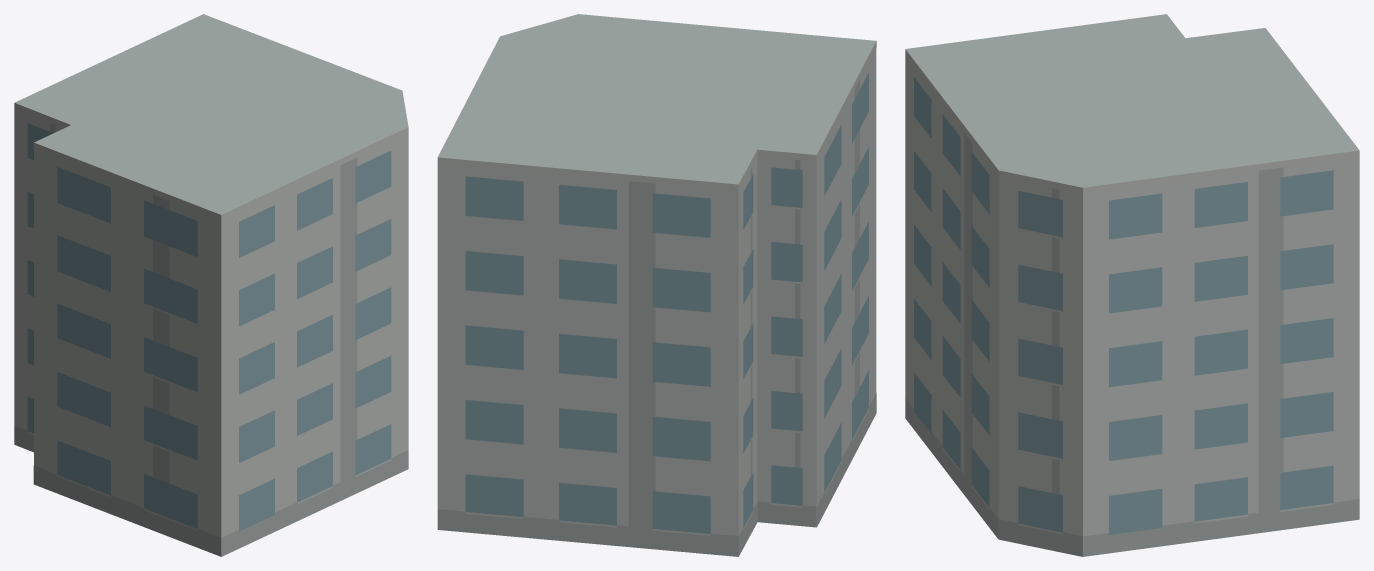
File: survey-upis-32990913.glb
3 views of the same model, side by side, from view 1: azimuth 30°, elevation 25°; view 2: azimuth 150°, elevation 25°; view 3: azimuth 270°, elevation 25° (orthographic). The views are drawn at different scales.
Parts seen in each view (by area): view 1: survey-upis-32990913.tmp; view 2: survey-upis-32990913.tmp; view 3: survey-upis-32990913.tmp.
Part boxes in pixels (box(x1,y1,x2,y2)): survey-upis-32990913.tmp: box(14, 14, 408, 556); survey-upis-32990913.tmp: box(437, 14, 876, 556); survey-upis-32990913.tmp: box(905, 14, 1359, 556).
Size of the model in its own units: 13.87 by 13.73 by 15.32.
